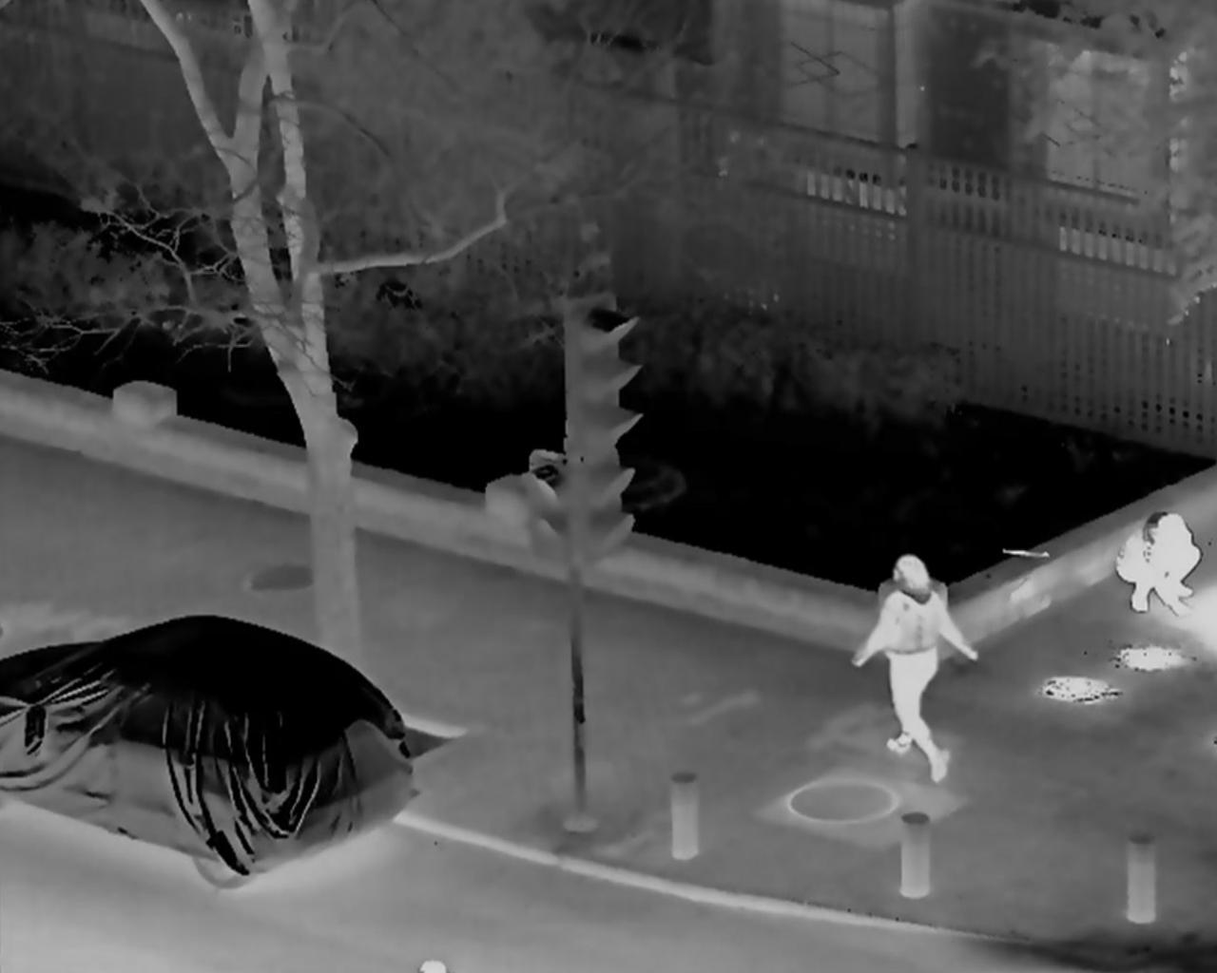person: (843, 547, 975, 785), (1115, 509, 1200, 634)
